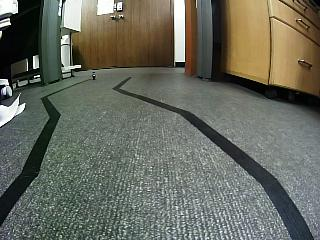person: (92, 72, 97, 80)
